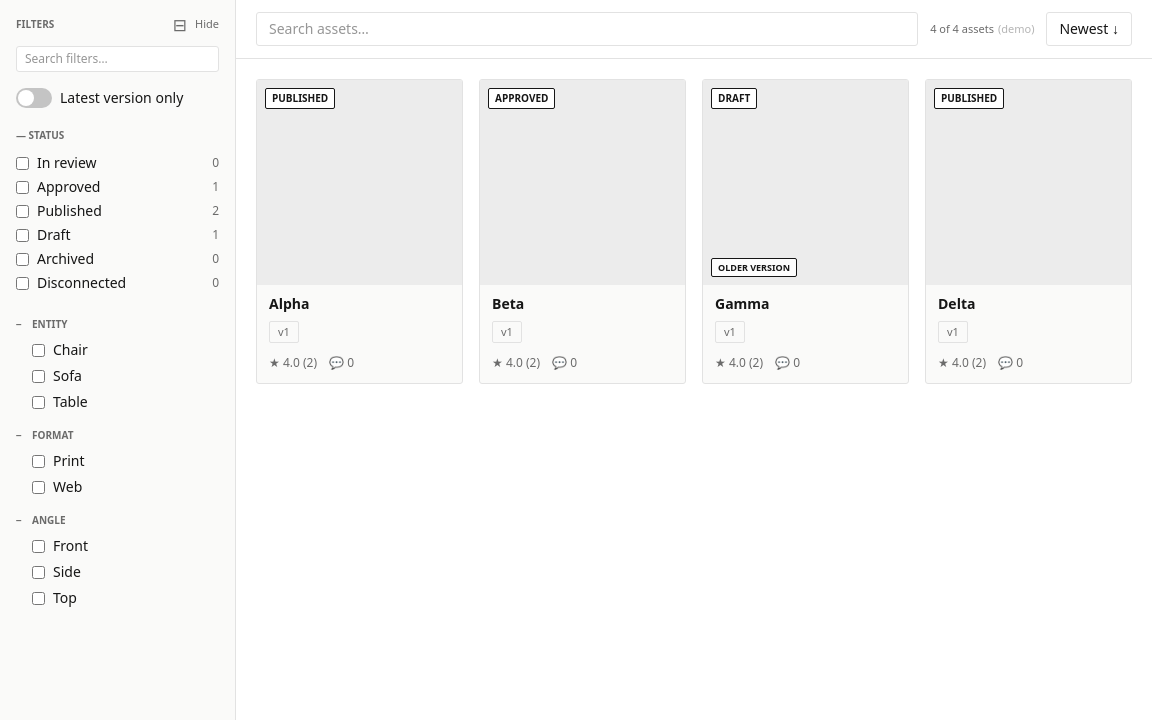
Test case: GalleryView — the option pool does not shrink › the option pool is fetched with default filters, whatever the view is filtered by
This screenshot has width=1152, height=720.
Step 1. Click the checkbox labelled "Sofa" → x=38, y=376, box [32,370,45,382]
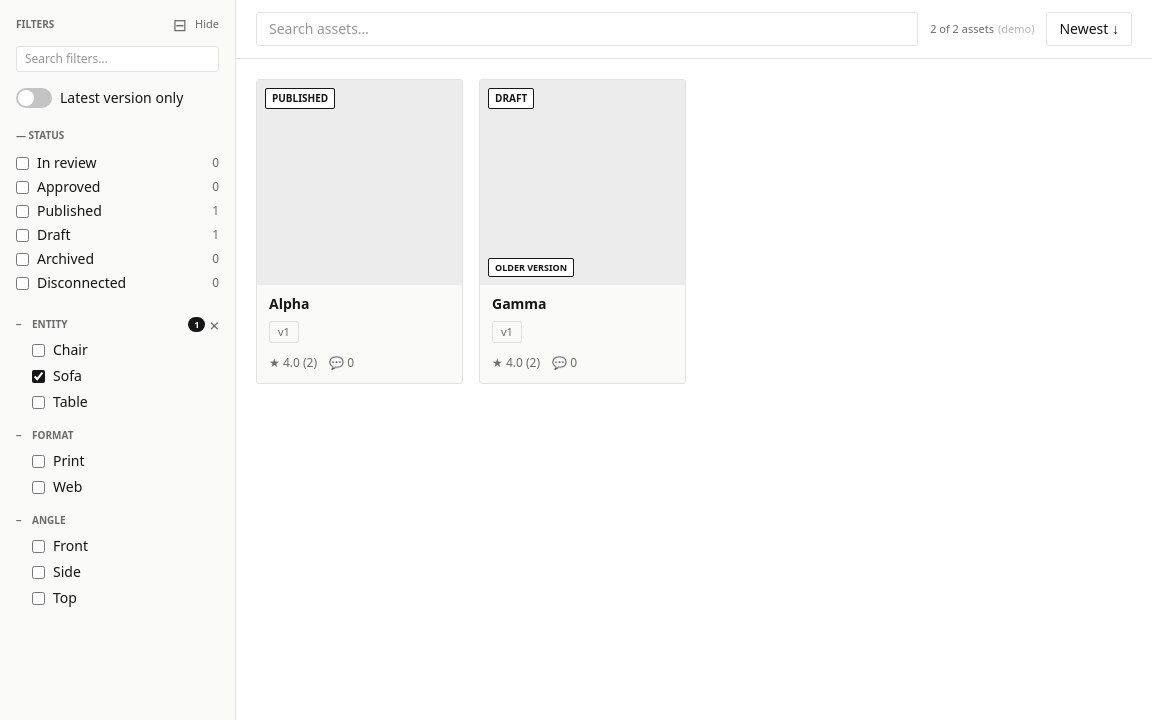
Result: the number of headings is 2 at [269,294,310,313]; [492,294,546,313]
